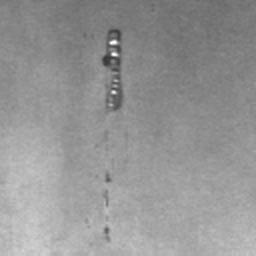Slag inclusion: (99, 26, 124, 113), (102, 188, 110, 206), (102, 227, 110, 242), (104, 173, 114, 184)
